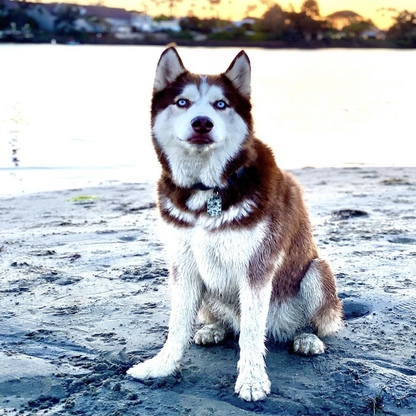husky: (121, 38, 347, 402)
